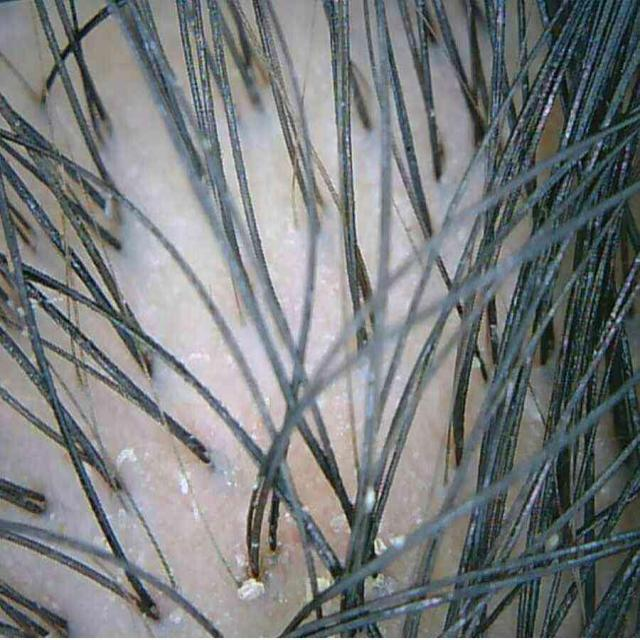d: (238, 578, 265, 601), (115, 448, 138, 468), (545, 533, 560, 552), (365, 488, 376, 512), (374, 537, 388, 555), (390, 535, 405, 548)
